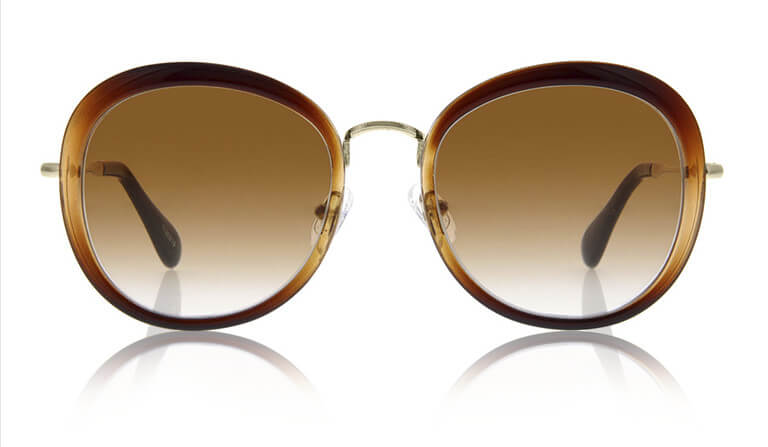sunglasses: (43, 53, 704, 353)
